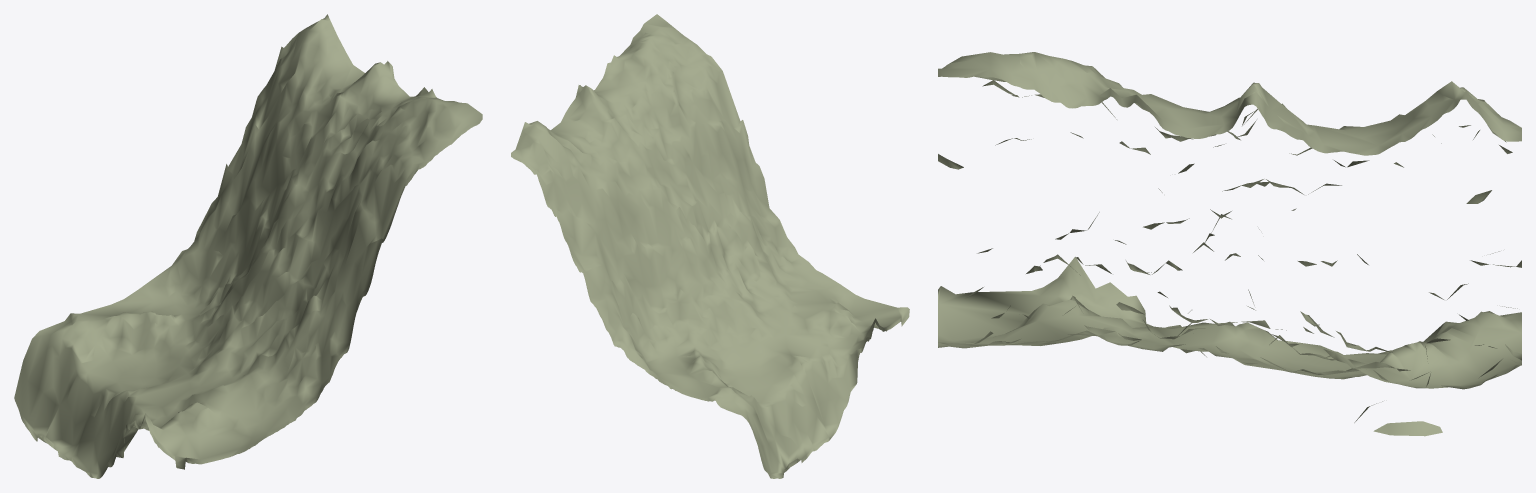
The model's file is terrain_r1_c3_lod1.glb.
The picture shows the model from 3 angles, left to right: view 1: azimuth 30°, elevation 25°; view 2: azimuth 150°, elevation 25°; view 3: azimuth 270°, elevation 25°; orthographic projection. The views are drawn at different scales.
Visible parts, largest first — view 1: terrain_r1_c3_lod1; view 2: terrain_r1_c3_lod1; view 3: terrain_r1_c3_lod1.
Boxes of the visible parts, left/top/right/bottom form: terrain_r1_c3_lod1: left=14, top=14, right=482, bottom=478; terrain_r1_c3_lod1: left=511, top=14, right=909, bottom=478; terrain_r1_c3_lod1: left=938, top=52, right=1521, bottom=436.
Bounding box in the file's own units: 50 × 58.57 × 50.
